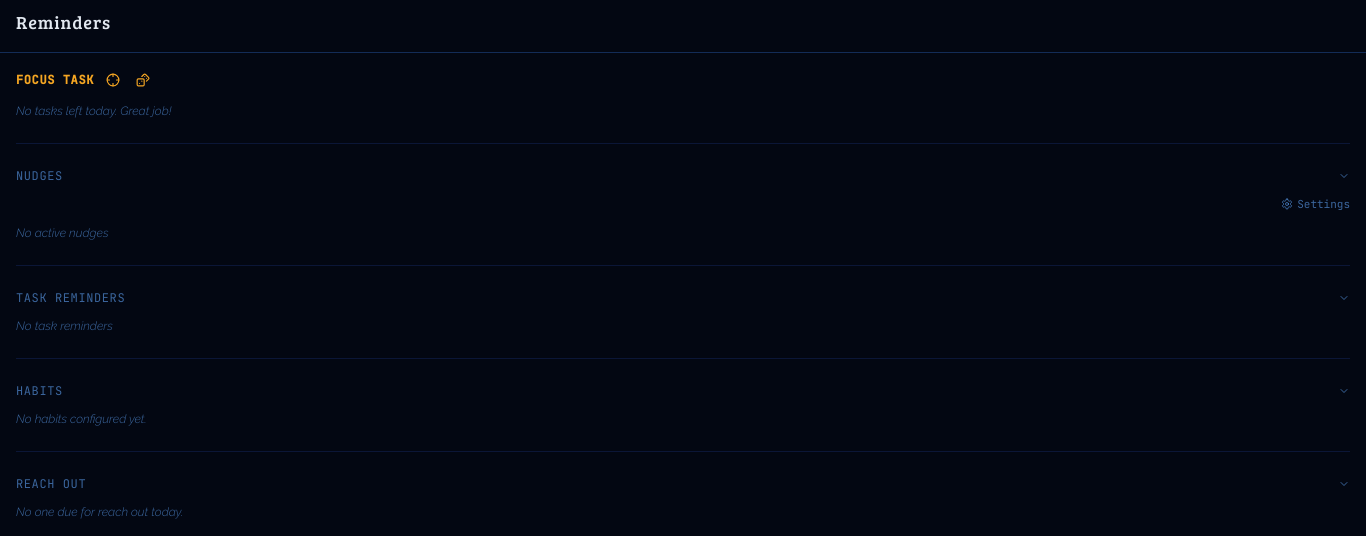
Test case: RemindersPanel › should collapse and expand sections without losing header even when count is zero
This screenshot has width=1366, height=536.
Expected: the text "No active nudges" is shown, left=16, top=226, right=108, bottom=240
// Click to collapse
What coordinates should you click on to do the following:
click the button "Nudges"
I would click on:
 (39, 176)
Its box is left=16, top=168, right=1350, bottom=184.
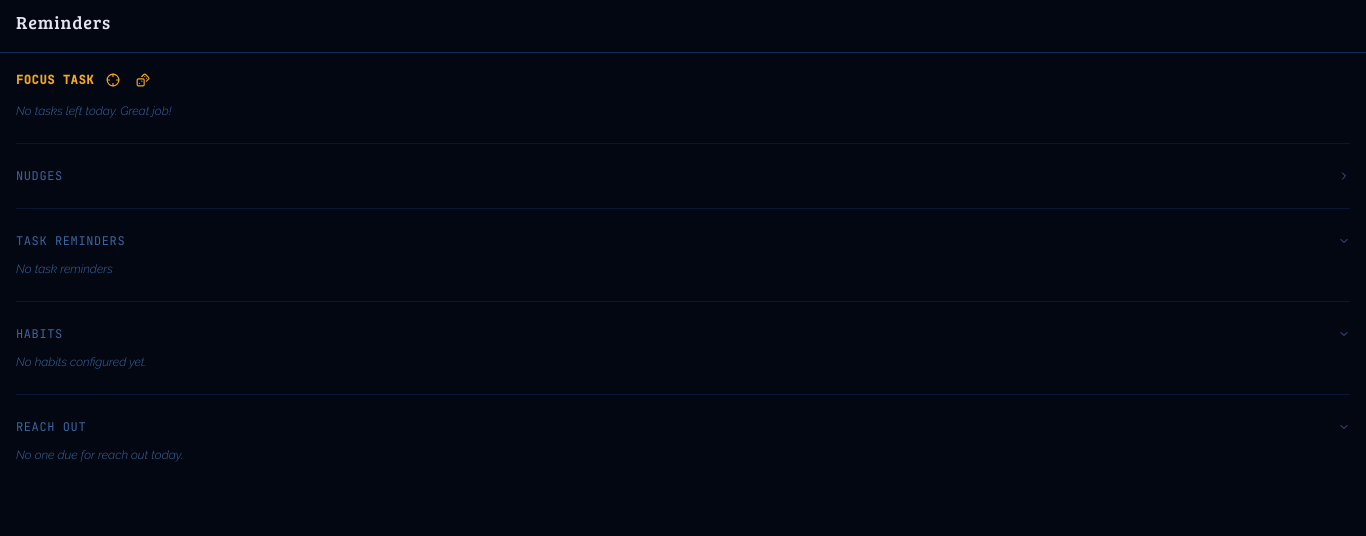
Expected: the text "No active nudges" is gone
// Click to re-expand
What coordinates should you click on to do the following:
click the button "Nudges"
I would click on:
 (39, 176)
Its box is left=16, top=168, right=1350, bottom=184.
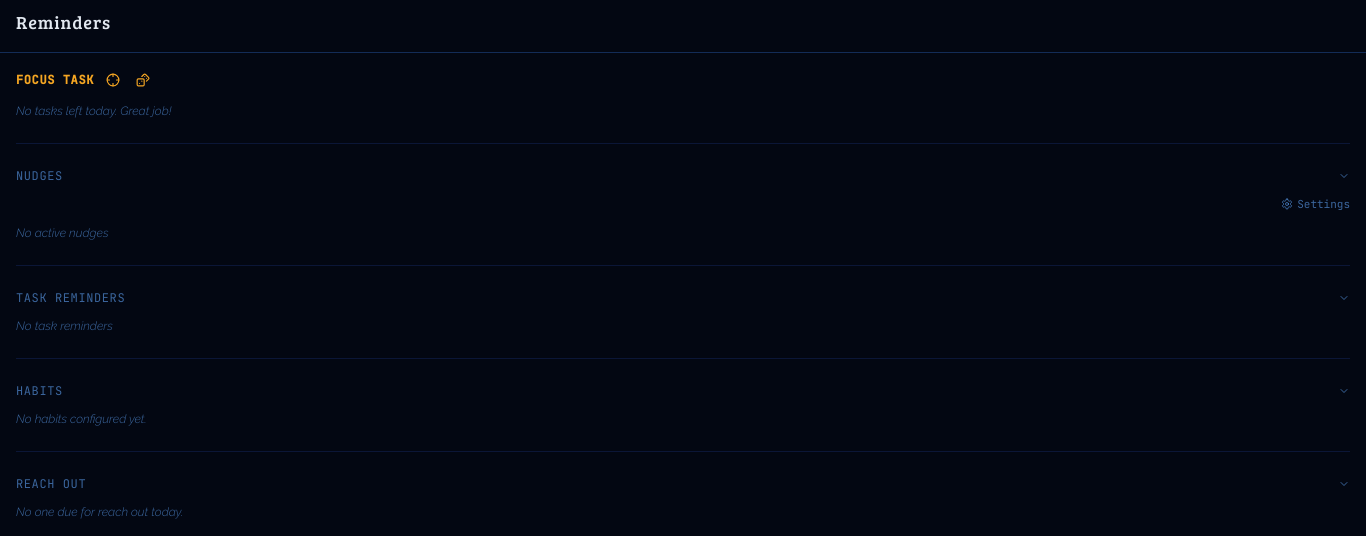
Expected: the text "No active nudges" is shown, left=16, top=226, right=108, bottom=240
